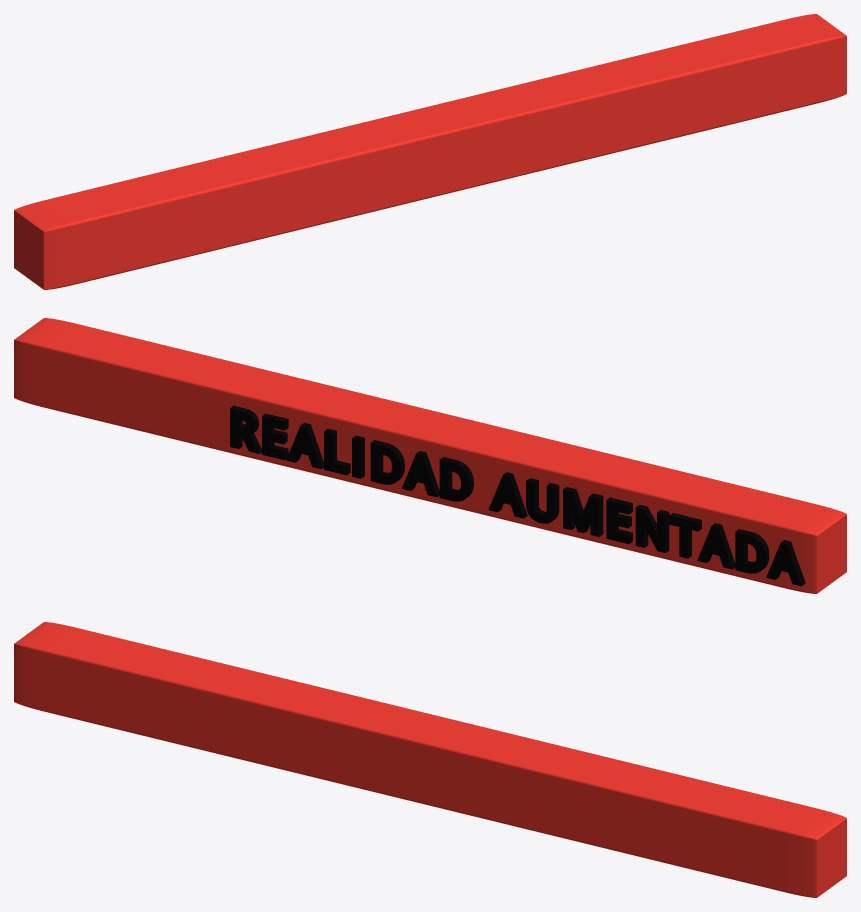
File: realidadaumentada.glb
The picture shows the model from 3 angles, top to bottom: view 1: azimuth 30°, elevation 25°; view 2: azimuth 150°, elevation 25°; view 3: azimuth 330°, elevation 25°; orthographic projection.
Parts seen in each view (by area): view 1: Box; view 2: Box, 3D Text - A (×5), 3D Text - D (×3), 3D Text - E (×2), 3D Text - M, 3D Text - N, 3D Text - R, 3D Text - U, 3D Text - T, 3D Text - L, 3D Text - I; view 3: Box.
Boxes of the visible parts, box(x1,y1,x2,y2) form: Box: box(14, 14, 846, 289); Box: box(14, 318, 846, 593); 3D Text - A (×5): box(286, 422, 805, 586); 3D Text - D (×3): box(370, 440, 769, 573); 3D Text - E (×2): box(262, 413, 632, 544); 3D Text - M: box(563, 487, 603, 536); 3D Text - N: box(635, 504, 669, 552); 3D Text - R: box(230, 405, 261, 453); 3D Text - U: box(526, 478, 559, 523); 3D Text - T: box(669, 513, 701, 558); 3D Text - L: box(324, 428, 350, 475); 3D Text - I: box(352, 435, 364, 478); Box: box(14, 622, 846, 897).
Bounding box in the file's own units: 1.45 × 0.1081 × 0.1119.
